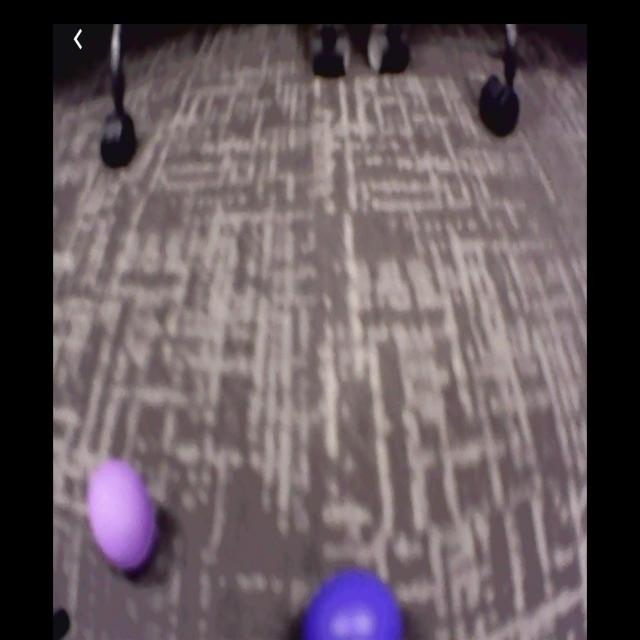ball: (89, 458, 157, 570), (299, 572, 404, 640)
